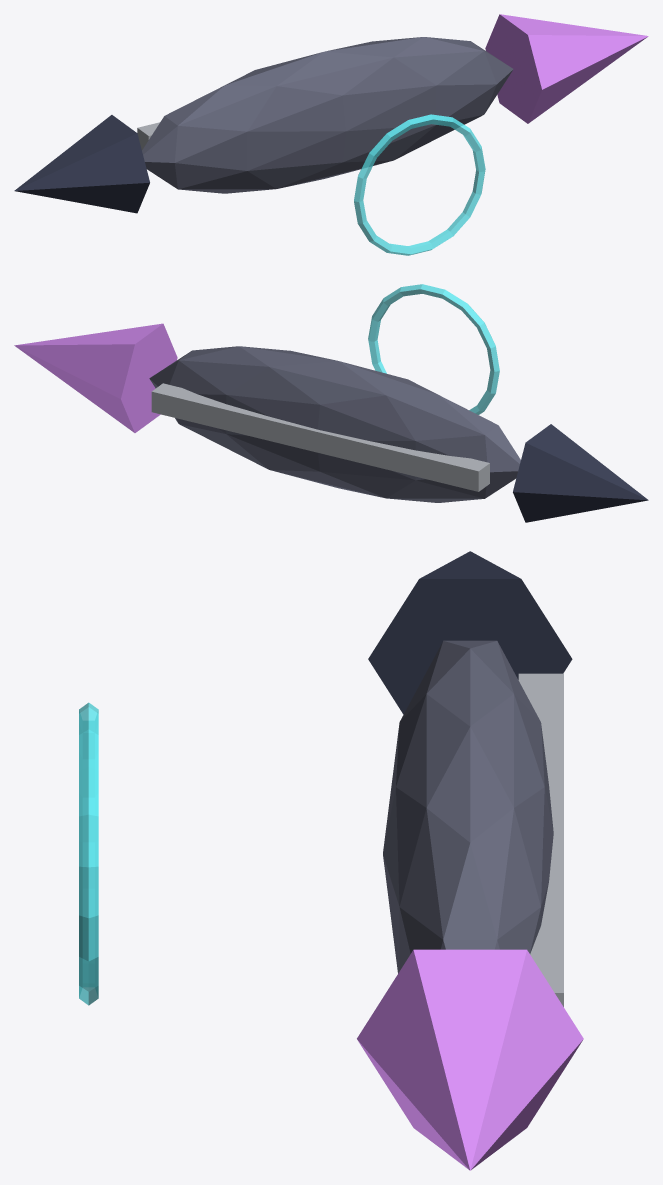
File: 05_skyship_hull.glb
The picture shows the model from 3 angles, top to bottom: view 1: azimuth 30°, elevation 25°; view 2: azimuth 150°, elevation 25°; view 3: azimuth 270°, elevation 25°; orthographic projection. The views are drawn at different scales.
Parts seen in each view (by area): view 1: hull_low_poly, bow_upgrade, stern_fin, size_class_ring; view 2: hull_low_poly, bow_upgrade, keel_plate, stern_fin, size_class_ring; view 3: hull_low_poly, bow_upgrade, stern_fin, keel_plate, size_class_ring.
Boxes of the visible parts, bbox=[...] form: hull_low_poly: bbox=[142, 37, 513, 193]; bow_upgrade: bbox=[485, 14, 648, 123]; stern_fin: bbox=[14, 115, 149, 213]; size_class_ring: bbox=[354, 114, 485, 255]; hull_low_poly: bbox=[149, 346, 520, 502]; bow_upgrade: bbox=[14, 323, 177, 432]; keel_plate: bbox=[151, 383, 489, 491]; stern_fin: bbox=[513, 424, 648, 522]; size_class_ring: bbox=[368, 284, 499, 414]; hull_low_poly: bbox=[383, 640, 553, 973]; bow_upgrade: bbox=[357, 949, 583, 1170]; stern_fin: bbox=[368, 551, 572, 714]; keel_plate: bbox=[518, 673, 563, 1006]; size_class_ring: bbox=[79, 702, 98, 1005].
Size of the model in its own units: 6.2 by 1.27 by 2.13.
